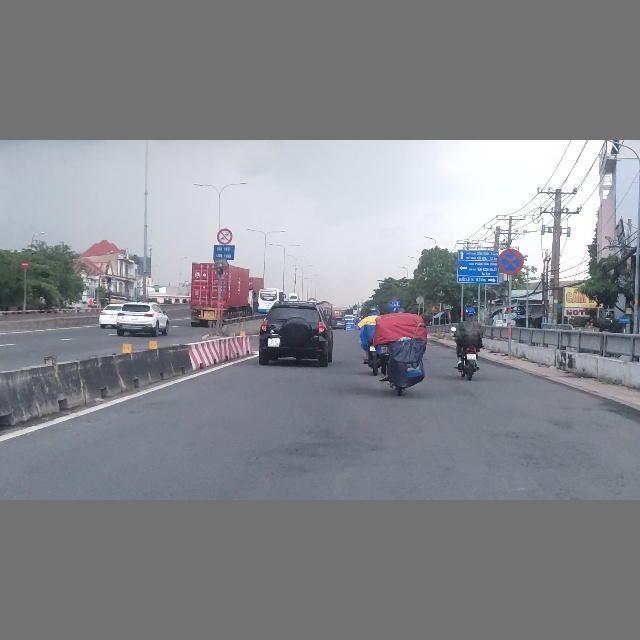P.102: (22, 261, 28, 269)
P.111: (217, 228, 233, 244)
P.130: (497, 248, 524, 275)
